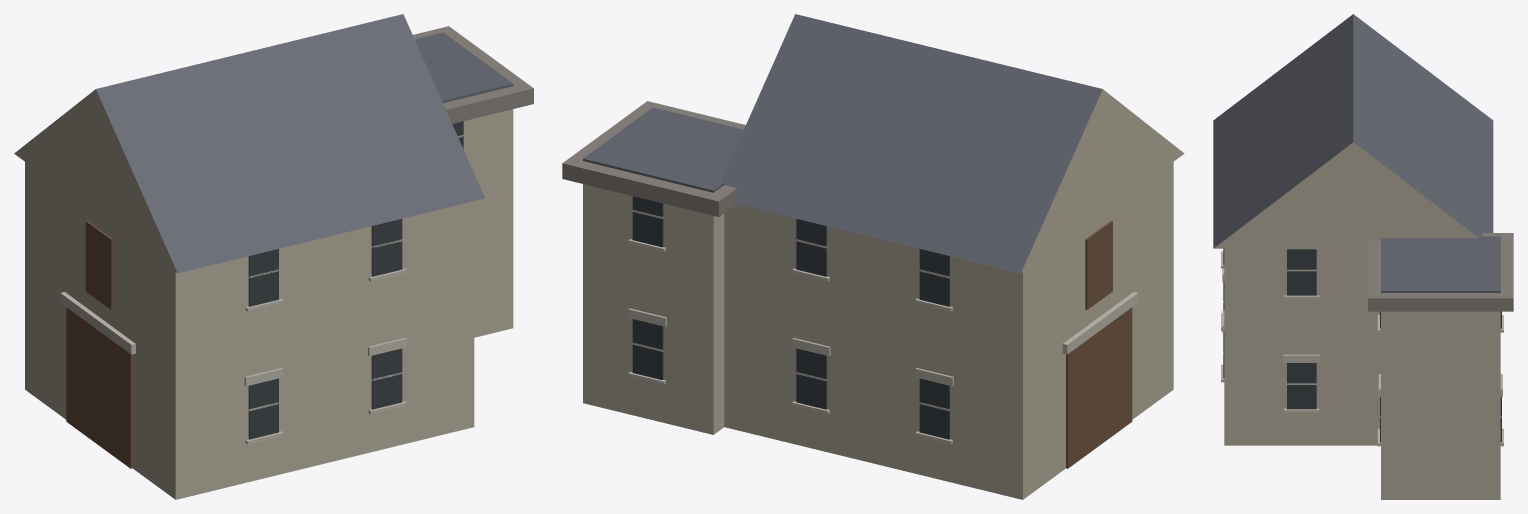
File: house_2107_indiana_coach_house__draft_1904.glb
The picture shows the model from 3 angles, left to right: view 1: azimuth 30°, elevation 25°; view 2: azimuth 150°, elevation 25°; view 3: azimuth 270°, elevation 25°; orthographic projection. The views are drawn at different scales.
Parts seen in each view (by area): view 1: house_2107_indiana_coach_house__draft_1904; view 2: house_2107_indiana_coach_house__draft_1904; view 3: house_2107_indiana_coach_house__draft_1904.
Boxes of the visible parts, left/top/right/bottom form: house_2107_indiana_coach_house__draft_1904: left=14, top=14, right=533, bottom=499; house_2107_indiana_coach_house__draft_1904: left=562, top=14, right=1184, bottom=499; house_2107_indiana_coach_house__draft_1904: left=1213, top=14, right=1513, bottom=499.
Size of the model in its own units: 11.97 by 9.14 by 8.15.
